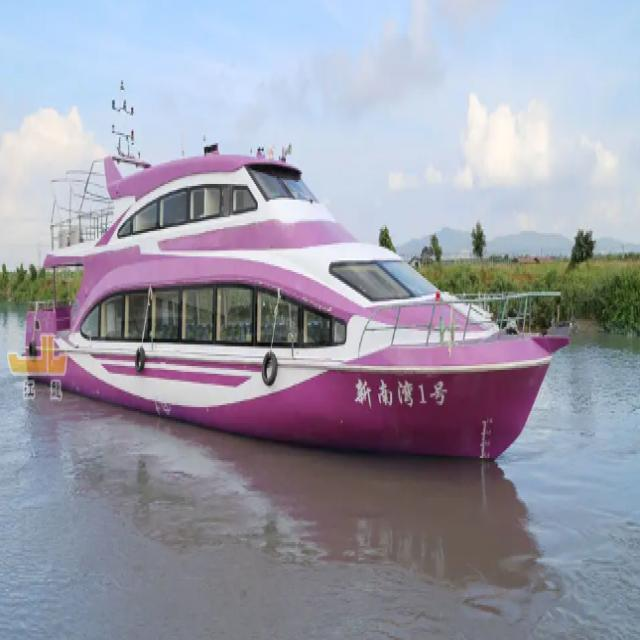houseboat: (33, 88, 554, 466)
